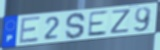2: (43, 16, 62, 41)
9: (132, 6, 154, 33)
E: (19, 15, 42, 46), (86, 10, 109, 38)
S: (64, 12, 87, 40)
Z: (109, 8, 132, 36)
